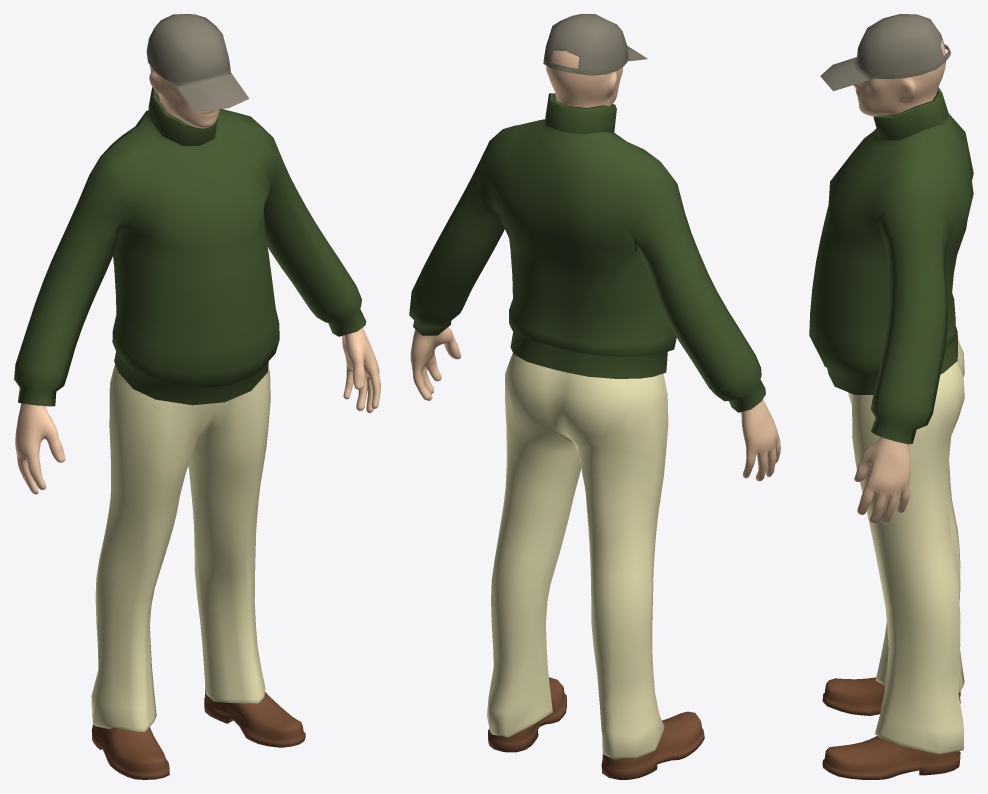
File: NPC1.fbx
3 views of the same model, side by side, from view 1: azimuth 30°, elevation 25°; view 2: azimuth 150°, elevation 25°; view 3: azimuth 270°, elevation 25° (orthographic).
Visible parts, largest first — view 1: TurtleneckSweater:TurtleneckSweater, LongPants_Business:pants, HumanBody1:humanBody, BaseballCap:baseball_cap_seam_at_inner_edge, MensBusinessShoes:shoeL, MensBusinessShoes:shoeR; view 2: TurtleneckSweater:TurtleneckSweater, LongPants_Business:pants, HumanBody1:humanBody, BaseballCap:baseball_cap_seam_at_inner_edge, MensBusinessShoes:shoeR, MensBusinessShoes:shoeL; view 3: TurtleneckSweater:TurtleneckSweater, LongPants_Business:pants, HumanBody1:humanBody, BaseballCap:baseball_cap_seam_at_inner_edge, MensBusinessShoes:shoeL, MensBusinessShoes:shoeR.
Boxes of the visible parts, x1,y1,x2,y2 form: TurtleneckSweater:TurtleneckSweater: [14, 87, 366, 406]; LongPants_Business:pants: [91, 364, 270, 731]; HumanBody1:humanBody: [15, 65, 380, 494]; BaseballCap:baseball_cap_seam_at_inner_edge: [146, 14, 248, 111]; MensBusinessShoes:shoeL: [204, 690, 305, 747]; MensBusinessShoes:shoeR: [91, 724, 169, 779]; TurtleneckSweater:TurtleneckSweater: [409, 93, 765, 412]; LongPants_Business:pants: [486, 353, 668, 759]; HumanBody1:humanBody: [410, 50, 780, 481]; BaseballCap:baseball_cap_seam_at_inner_edge: [543, 14, 647, 75]; MensBusinessShoes:shoeR: [601, 711, 704, 779]; MensBusinessShoes:shoeL: [488, 677, 566, 752]; TurtleneckSweater:TurtleneckSweater: [809, 87, 973, 444]; LongPants_Business:pants: [848, 341, 964, 754]; HumanBody1:humanBody: [853, 39, 945, 523]; BaseballCap:baseball_cap_seam_at_inner_edge: [820, 14, 950, 91]; MensBusinessShoes:shoeL: [822, 736, 960, 779]; MensBusinessShoes:shoeR: [822, 677, 960, 715].
Bounding box in the file's own units: 64.15 × 124 × 25.59.
